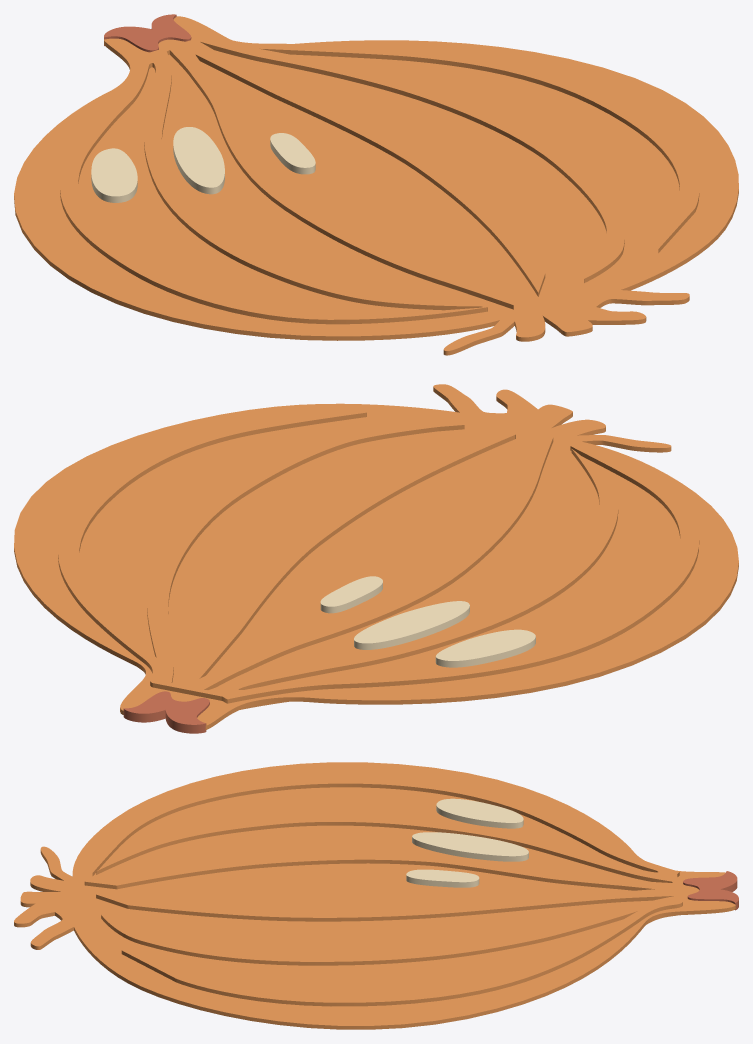
The model's file is emoji_u1f9c5.glb.
3 renders of one model, top to bottom at view 1: azimuth 30°, elevation 25°; view 2: azimuth 150°, elevation 25°; view 3: azimuth 270°, elevation 25°, orthographic. The views are drawn at different scales.
Visible parts, largest first — view 1: emoji_u1f9c5; view 2: emoji_u1f9c5; view 3: emoji_u1f9c5.
Boxes of the visible parts, x1,y1,x2,y2 form: emoji_u1f9c5: [14, 14, 738, 355]; emoji_u1f9c5: [14, 384, 738, 733]; emoji_u1f9c5: [14, 762, 738, 1029].
Bounding box in the file's own units: 0.0303 × 0.0008 × 0.0352.
